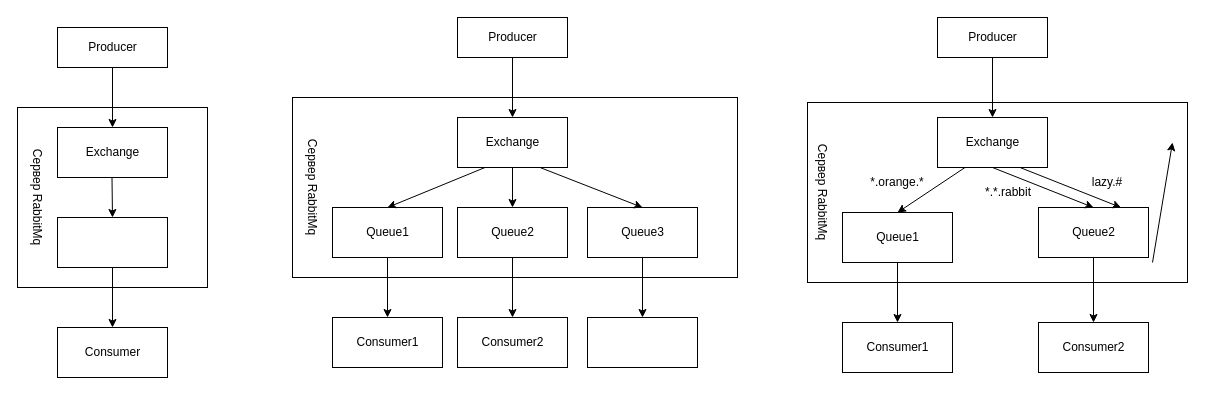
Some shapes in this 1205 by 395 pixel diagram are drawn without their labels. The centre of each missing label's shape, as x and y in pixels:
"Consumer3" goes at pixel 642 342.
"Queues" goes at pixel 112 242.
